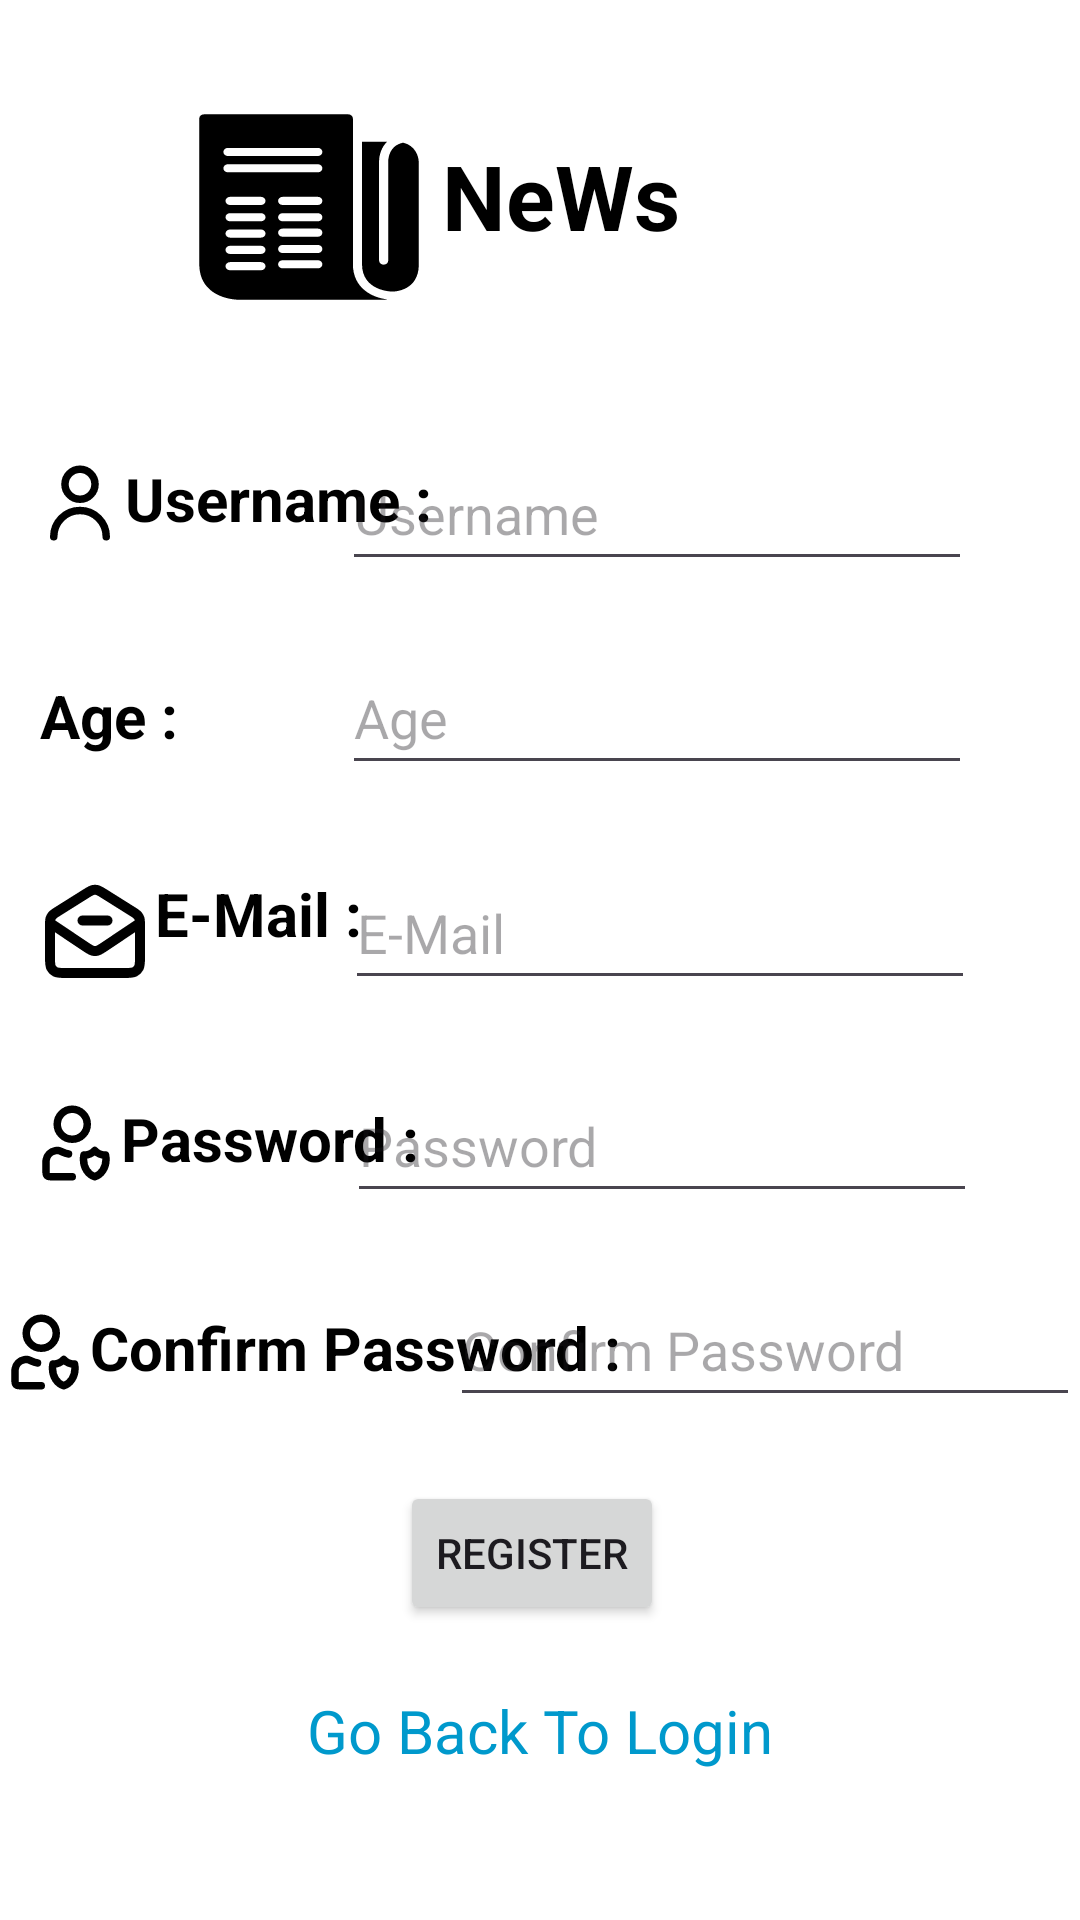

Named icons in this screenshot (1080w x 1920h) and their bounding boxes, region(x1, y1, x2, y2):
appicon: region(199, 114, 419, 300)
